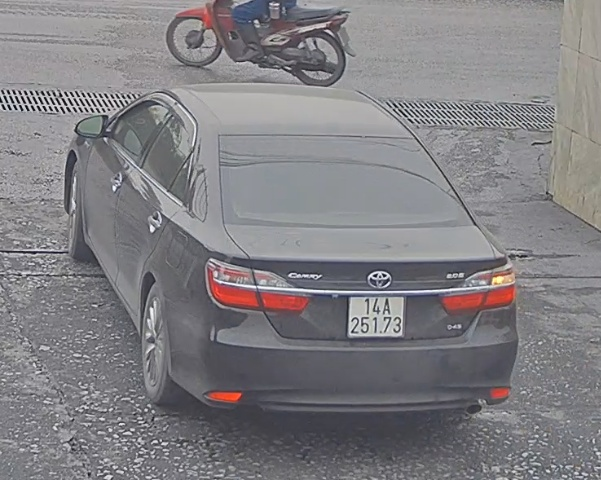vehicle plate: (345, 287, 406, 340)
